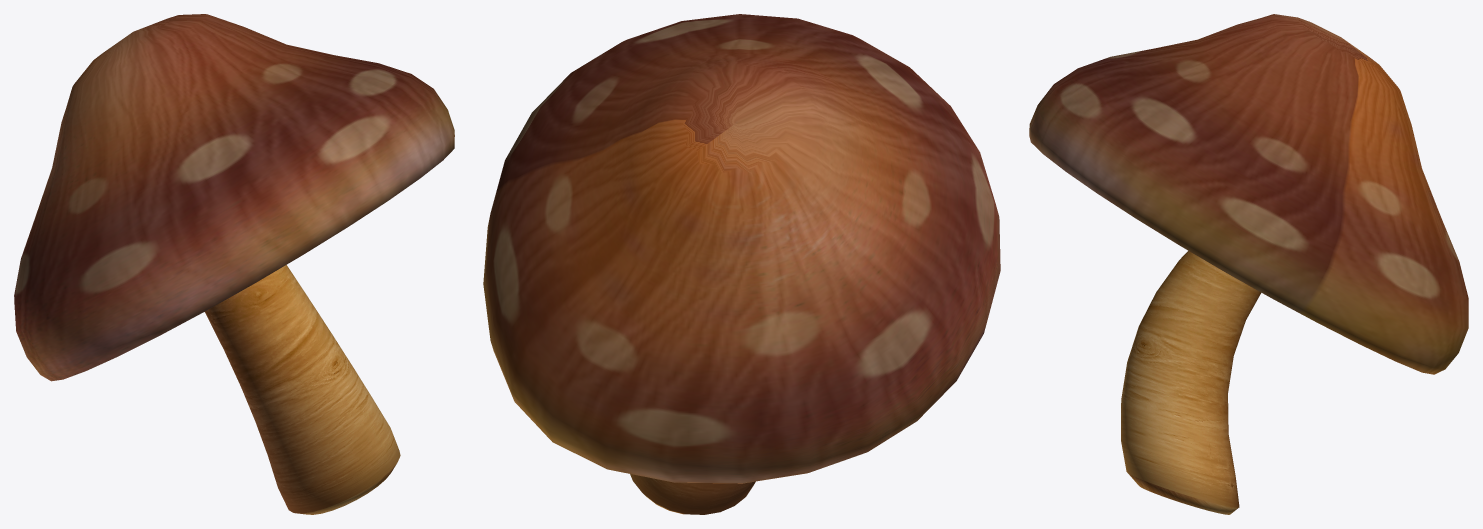
File: hongo1.fbx
3 views of the same model, side by side, from view 1: azimuth 30°, elevation 25°; view 2: azimuth 150°, elevation 25°; view 3: azimuth 270°, elevation 25° (orthographic). The views are drawn at different scales.
Parts seen in each view (by area): view 1: Sphere39, Cylinder193; view 2: Sphere39, Cylinder193; view 3: Sphere39, Cylinder193.
Boxes of the visible parts, x1,y1,x2,y2 form: Sphere39: [14, 14, 454, 381]; Cylinder193: [205, 265, 400, 514]; Sphere39: [483, 14, 1000, 483]; Cylinder193: [630, 474, 755, 514]; Sphere39: [1029, 14, 1468, 374]; Cylinder193: [1121, 251, 1261, 514].
Bounding box in the file's own units: 12.32 × 13.54 × 12.13.
3 materials, 2 textured.
